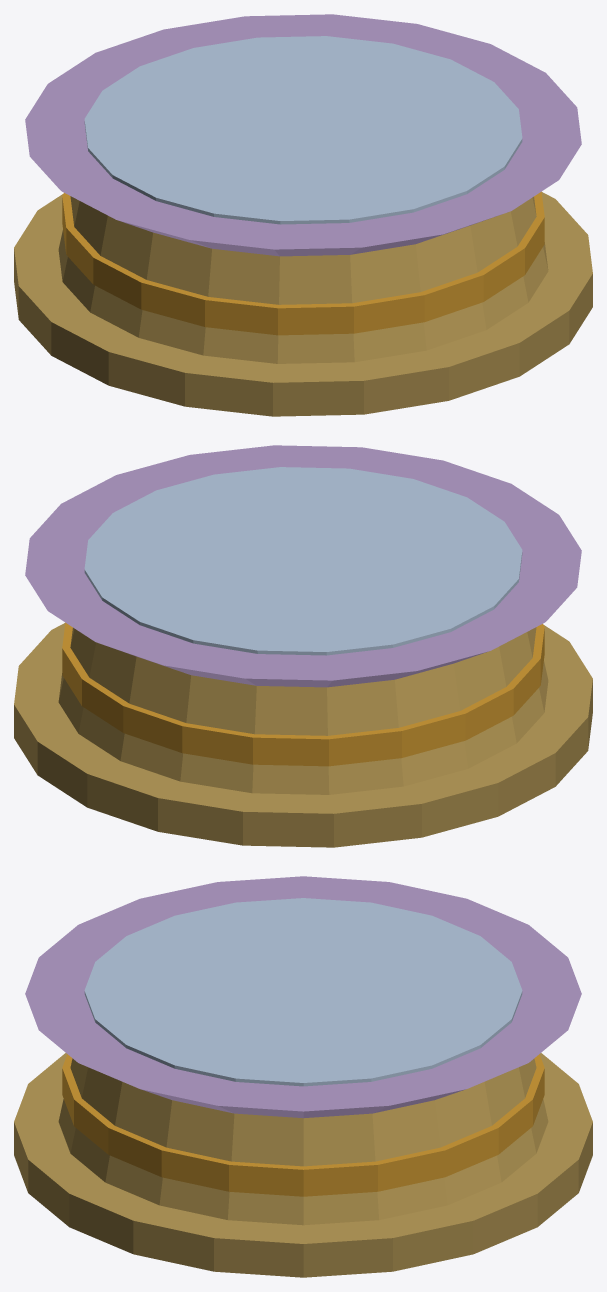
The model's file is goo_cork_stand@fairground.fbx.
The picture shows the model from 3 angles, top to bottom: view 1: azimuth 30°, elevation 25°; view 2: azimuth 150°, elevation 25°; view 3: azimuth 270°, elevation 25°; orthographic projection.
Visible parts, largest first — view 1: goo_cork_stand; view 2: goo_cork_stand; view 3: goo_cork_stand.
Part boxes in pixels (x1,y1,x2,y2): goo_cork_stand: (14, 14, 592, 416); goo_cork_stand: (14, 445, 592, 847); goo_cork_stand: (14, 876, 592, 1277).
Size of the model in its own units: 7.8 by 2.45 by 7.8.
